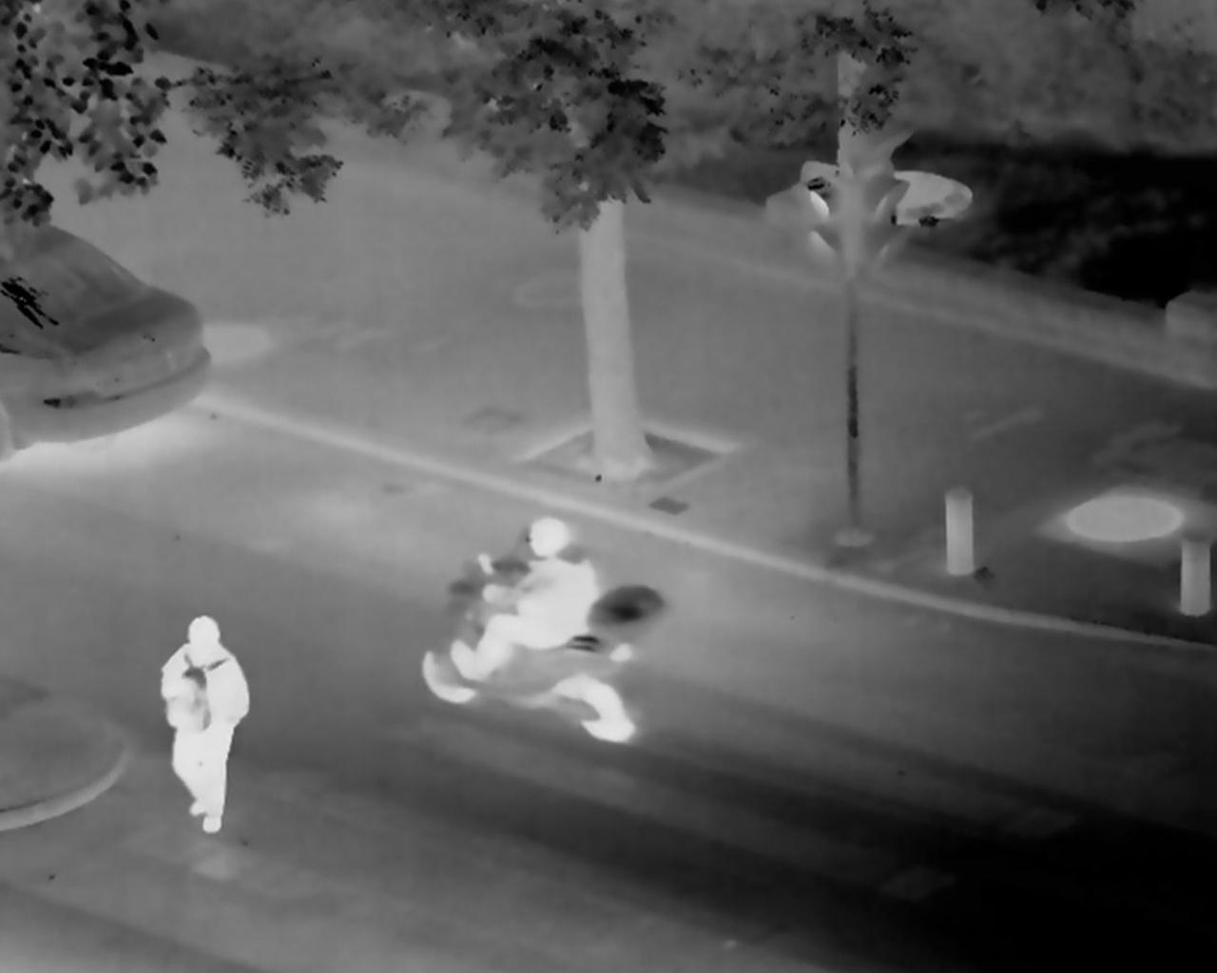person: (152, 596, 247, 840), (466, 508, 590, 686)
